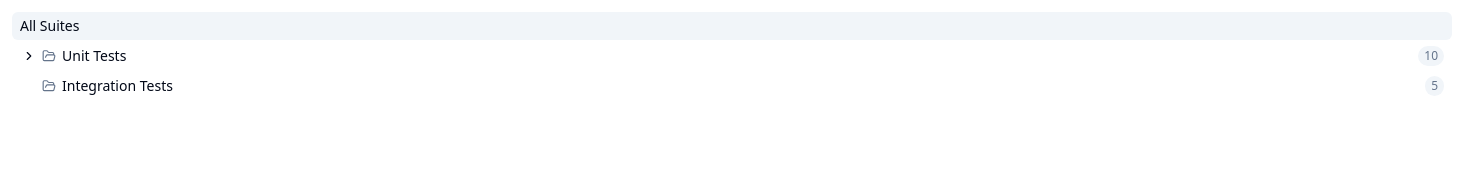
Scenario: SuiteTree › expands children when chevron is clicked
Click the button named "Expand ".
click(29, 56)  # box [20,47,38,65]
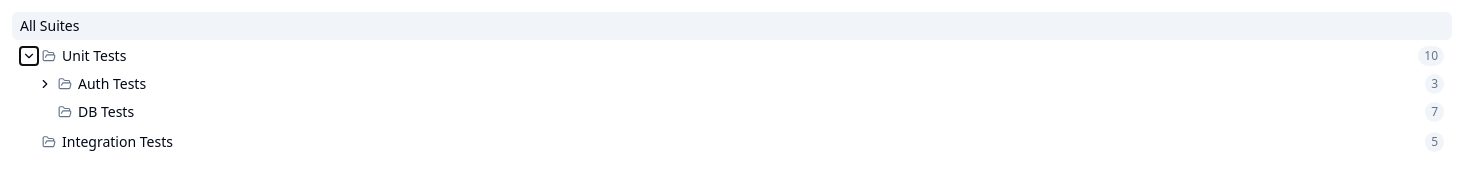
Expected: the text "Auth Tests" is shown, [78,74,146,94]
Expected: the text "DB Tests" is shown, [78,102,134,122]
